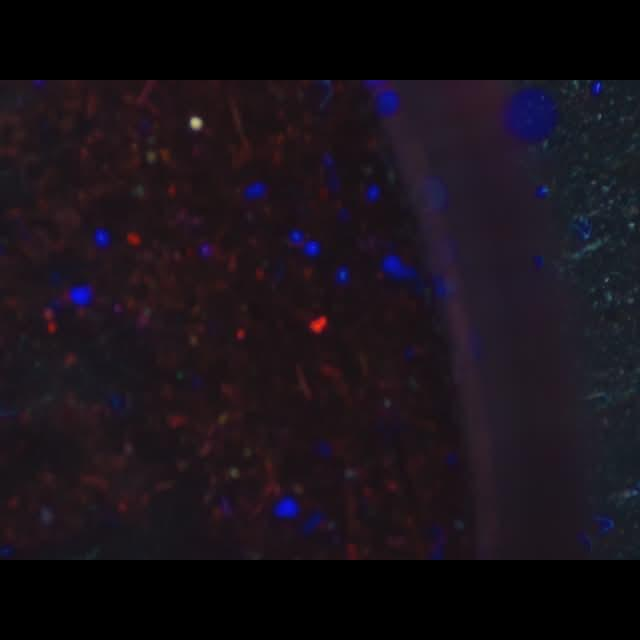microbeads: (190, 116, 203, 130)
